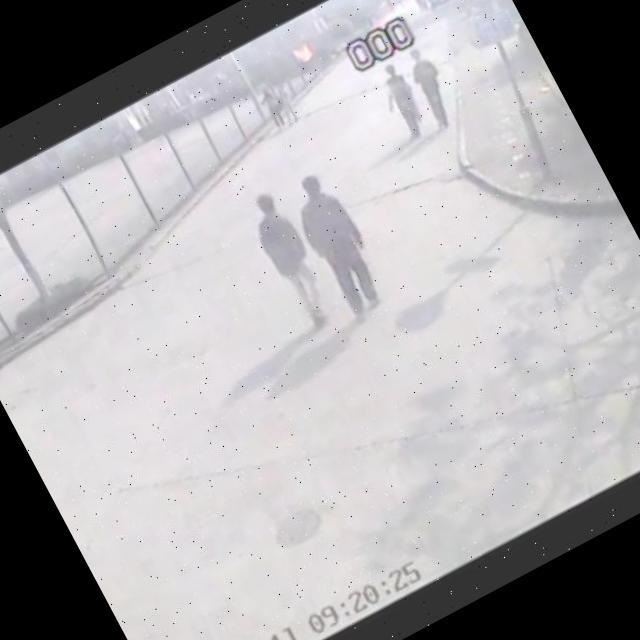person: (274, 160, 402, 326), (235, 179, 348, 335), (395, 39, 470, 135), (368, 54, 438, 144)
